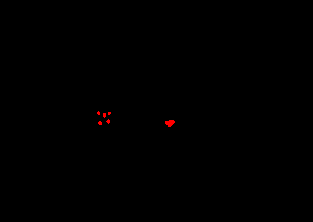Target: (165, 120, 175, 127), (106, 119, 110, 124), (98, 121, 102, 125), (103, 113, 106, 118), (97, 111, 100, 115), (108, 112, 111, 115)
